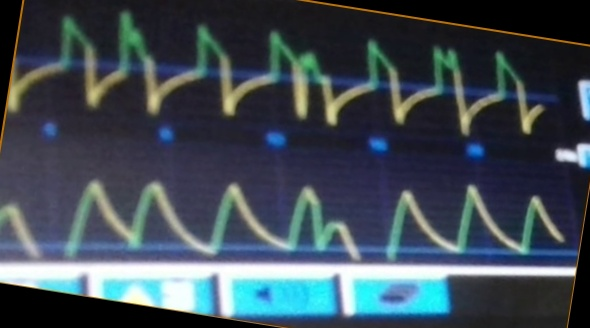Double_Triggering Flow: (46, 12, 541, 138)
Double_Triggering Volume: (36, 175, 562, 262)
